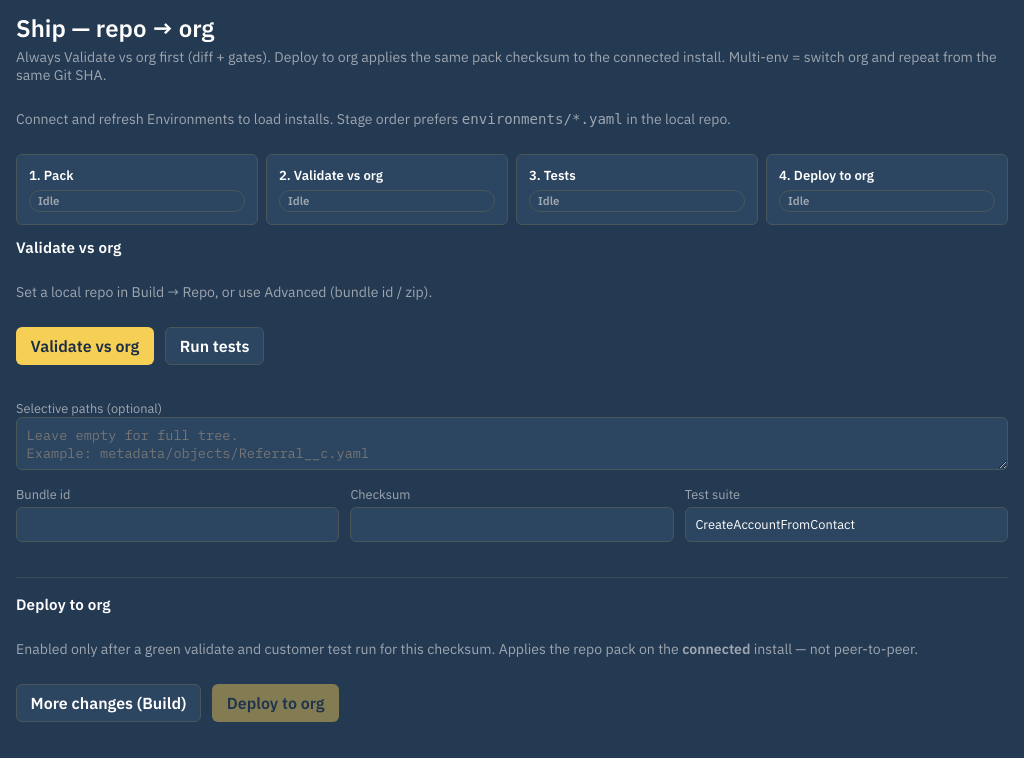
Test: DeployPanel › validates vs org via bundle id
This screenshot has width=1024, height=758.
Type "bun_1" into the field with test id "bundle-id" at [178, 524], box left=16, top=507, right=339, bottom=542
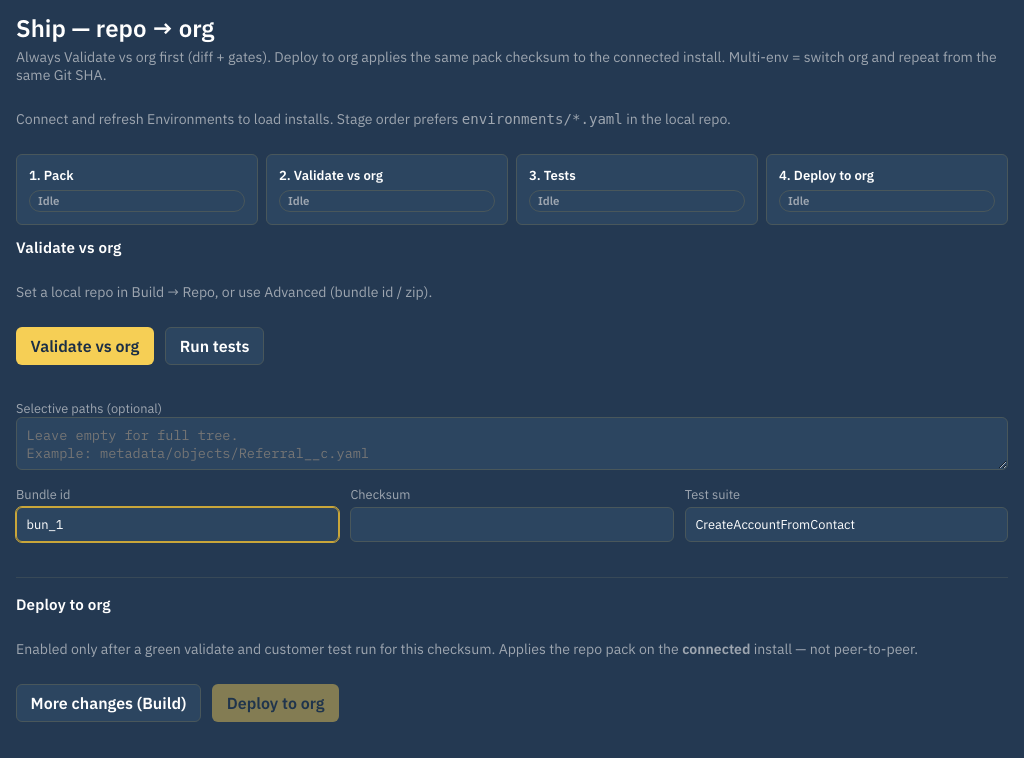
Click the button with test id "validate-vs-org" at [85, 346], box left=16, top=327, right=154, bottom=365
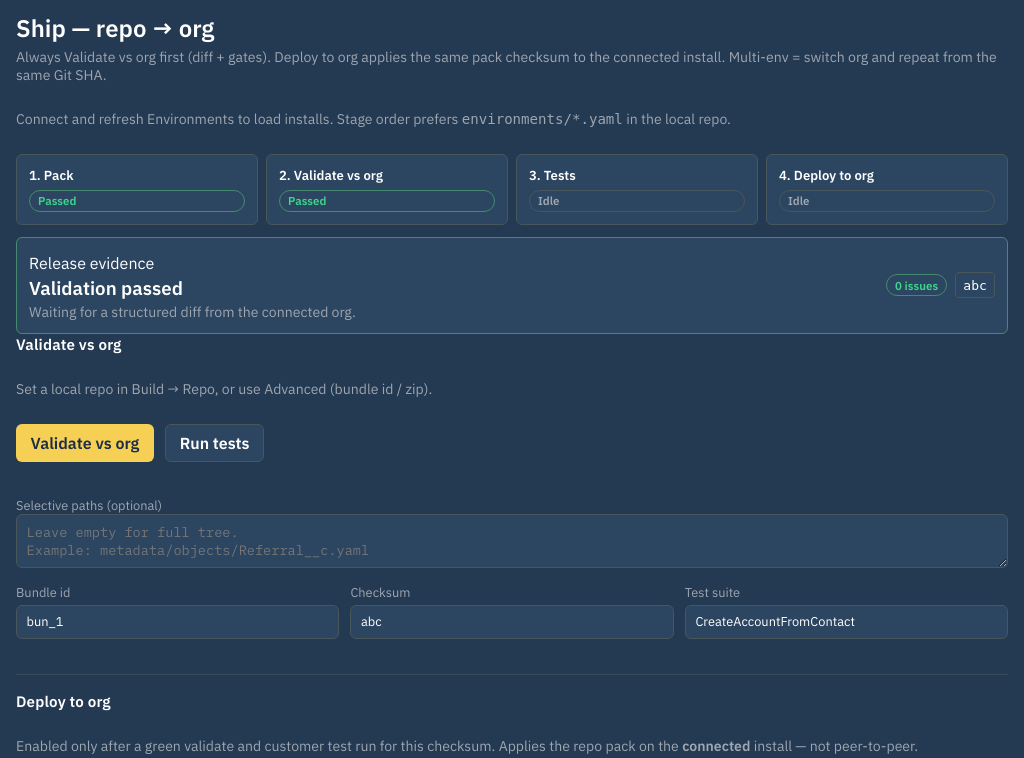
Now the field showing "abc" is shown, box left=350, top=605, right=674, bottom=639
